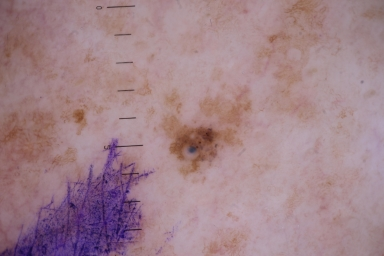melanoma: (169, 125, 221, 179)
